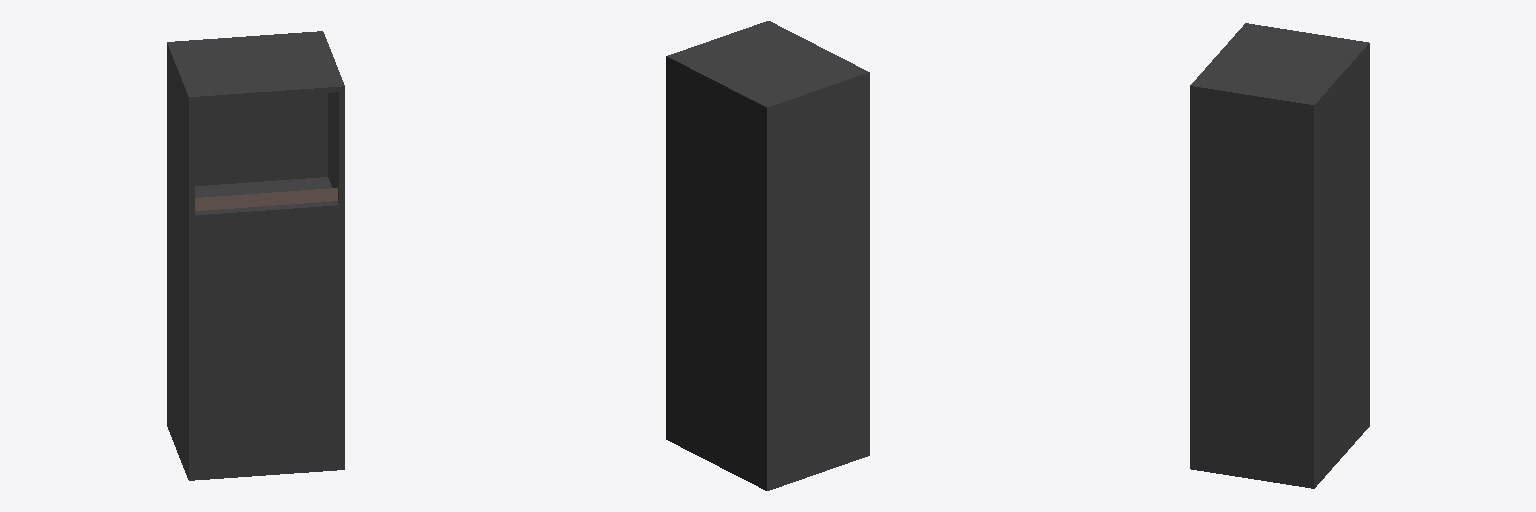
Rendered from cupboard.7.obj.
3 renders of one model, left to right at view 1: azimuth 30°, elevation 25°; view 2: azimuth 150°, elevation 25°; view 3: azimuth 270°, elevation 25°, orthographic.
Parts seen in each view (by area): view 1: Cube.000; view 2: Cube.000; view 3: Cube.000.
Part boxes in pixels (left/top/right/bottom): Cube.000: left=167, top=31, right=344, bottom=480; Cube.000: left=666, top=21, right=869, bottom=490; Cube.000: left=1190, top=23, right=1369, bottom=488.
Size of the model in its own units: 3.3 by 7.17 by 3.05.